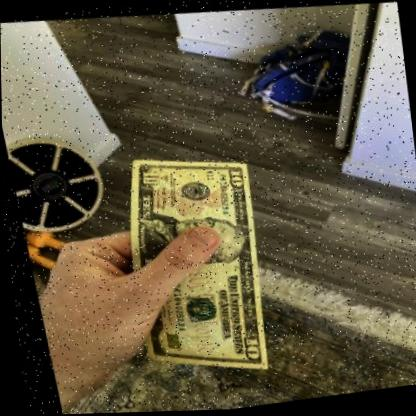dollar_front: (127, 158, 260, 368)
